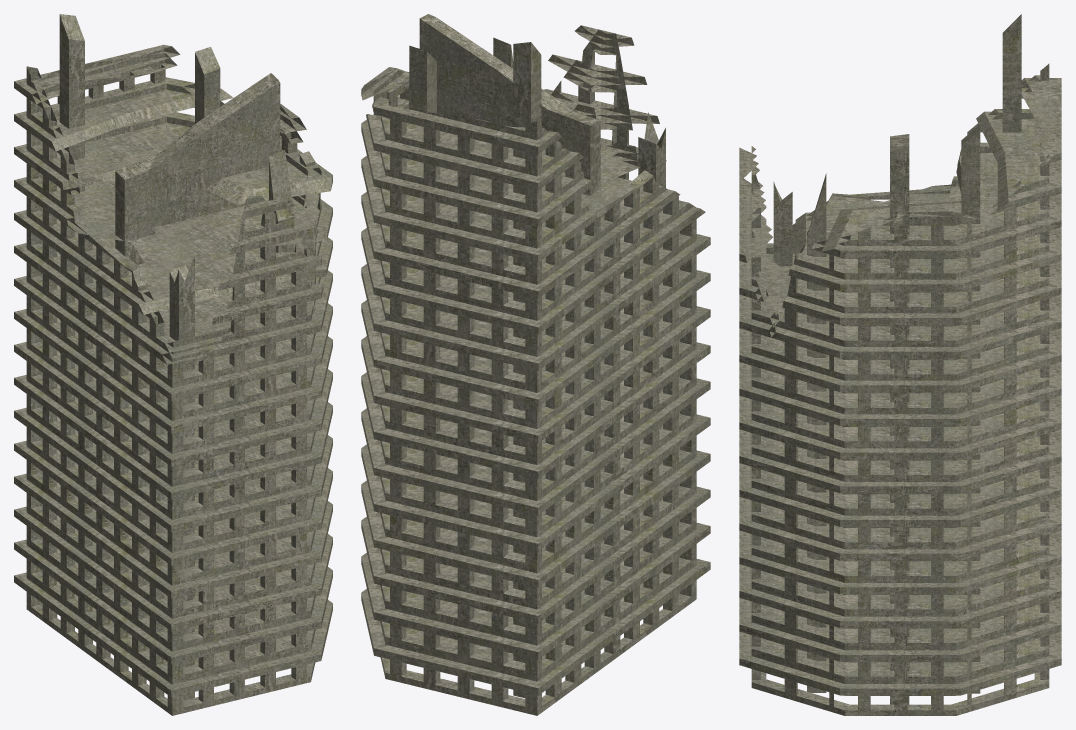
File: building_04.glb
3 renders of one model, left to right at view 1: azimuth 30°, elevation 25°; view 2: azimuth 150°, elevation 25°; view 3: azimuth 270°, elevation 25°, orthographic. The views are drawn at different scales.
Parts seen in each view (by area): view 1: Object_4.1540, Object_4.1452, Object_4.1610, Object_4.1783, Object_4.1785, Object_4.1779, Object_4.1781, Object_4.1776, Object_4.1774, Object_4.1772, Object_4.1770, Object_4.1768 (+80 smaller); view 2: Object_4.1661, Object_4.1450, Object_4.1610, Object_4.1781, Object_4.1776, Object_4.1774, Object_4.1772, Object_4.1770, Object_4.1768, Object_4.1766, Object_4.1764, Object_4.1762 (+76 smaller); view 3: Object_4.1516, Object_4.1703, Object_4.1785, Object_4.1779, Object_4.1783, Object_4.1776, Object_4.1774, Object_4.1762, Object_4.1770, Object_4.1764, Object_4.1772, Object_4.1760 (+93 smaller).
Part boxes in pixels (x1,y1,x2,y2): Object_4.1540: (172, 315, 310, 715); Object_4.1452: (124, 83, 280, 264); Object_4.1610: (72, 337, 172, 715); Object_4.1783: (14, 177, 332, 252); Object_4.1785: (14, 122, 332, 189); Object_4.1779: (14, 243, 332, 354); Object_4.1781: (14, 210, 332, 304); Object_4.1776: (14, 276, 332, 393); Object_4.1774: (14, 309, 332, 426); Object_4.1772: (14, 342, 332, 459); Object_4.1770: (14, 375, 332, 492); Object_4.1768: (14, 407, 332, 525); Object_4.1661: (385, 121, 537, 715); Object_4.1450: (419, 18, 590, 195); Object_4.1610: (587, 203, 696, 653); Object_4.1781: (361, 177, 674, 291); Object_4.1776: (361, 234, 709, 363); Object_4.1774: (361, 270, 710, 399); Object_4.1772: (361, 306, 710, 435); Object_4.1770: (361, 342, 710, 471); Object_4.1768: (361, 378, 709, 507); Object_4.1766: (361, 414, 710, 543); Object_4.1764: (361, 450, 710, 579); Object_4.1762: (361, 486, 709, 615); Object_4.1516: (844, 393, 956, 642); Object_4.1703: (844, 213, 956, 407); Object_4.1785: (835, 153, 1061, 250); Object_4.1779: (739, 254, 1061, 351); Object_4.1783: (790, 179, 1061, 284); Object_4.1776: (739, 328, 1061, 385); Object_4.1774: (739, 362, 1061, 418); Object_4.1762: (739, 564, 1061, 621); Object_4.1770: (739, 429, 1061, 486); Object_4.1764: (739, 530, 1061, 587); Object_4.1772: (739, 395, 1061, 452); Object_4.1760: (739, 598, 1061, 654).
Size of the model in its own units: 2.92 by 7.95 by 3.78.
Materials: 1 (1 with a texture image).
